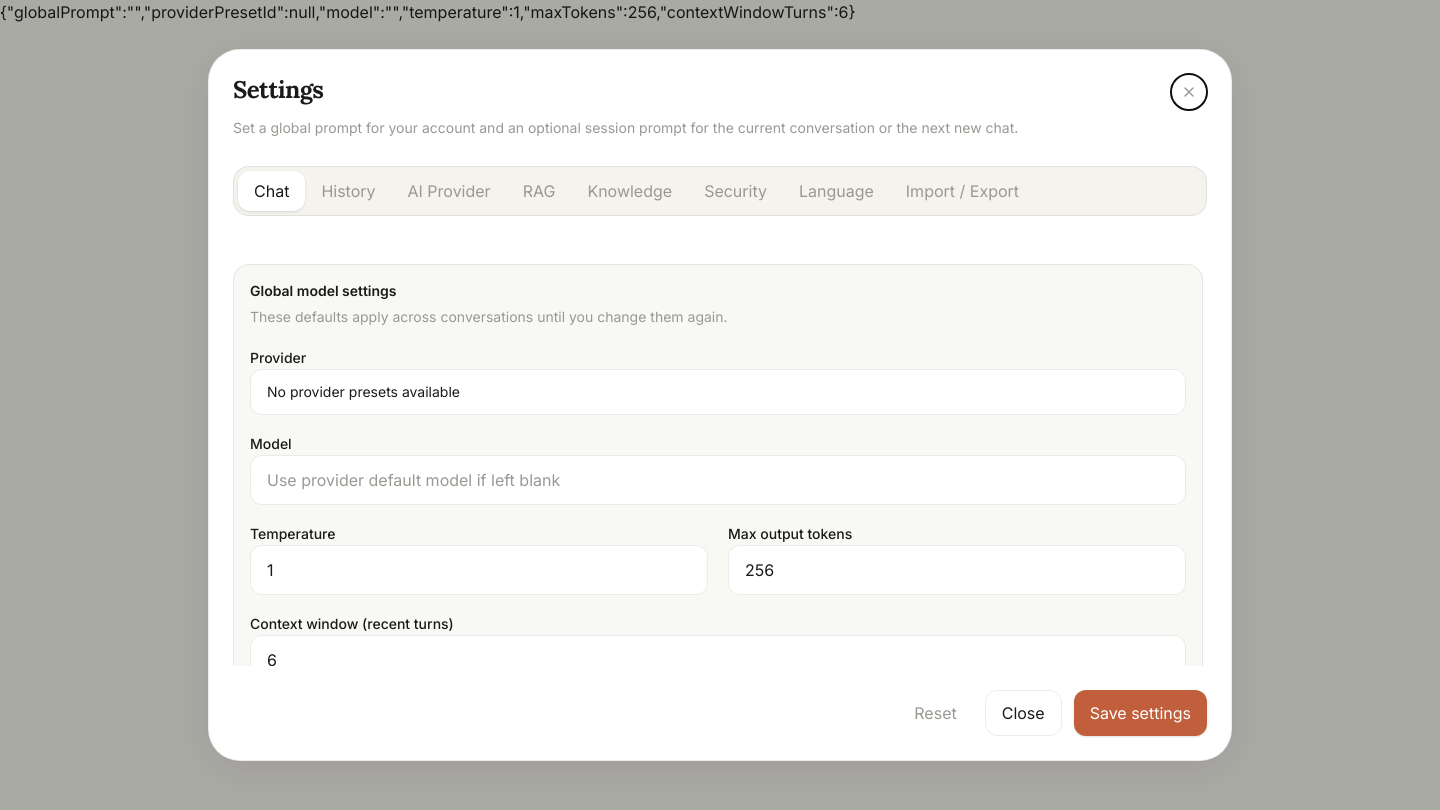
Test: SettingsPanel › keeps intermediate numeric chat inputs as raw text without writing invalid values upstream
The image size is (1440, 810).
Replace the text in the field labelled "Temperature" with "-" at (479, 570), box left=250, top=545, right=708, bottom=595
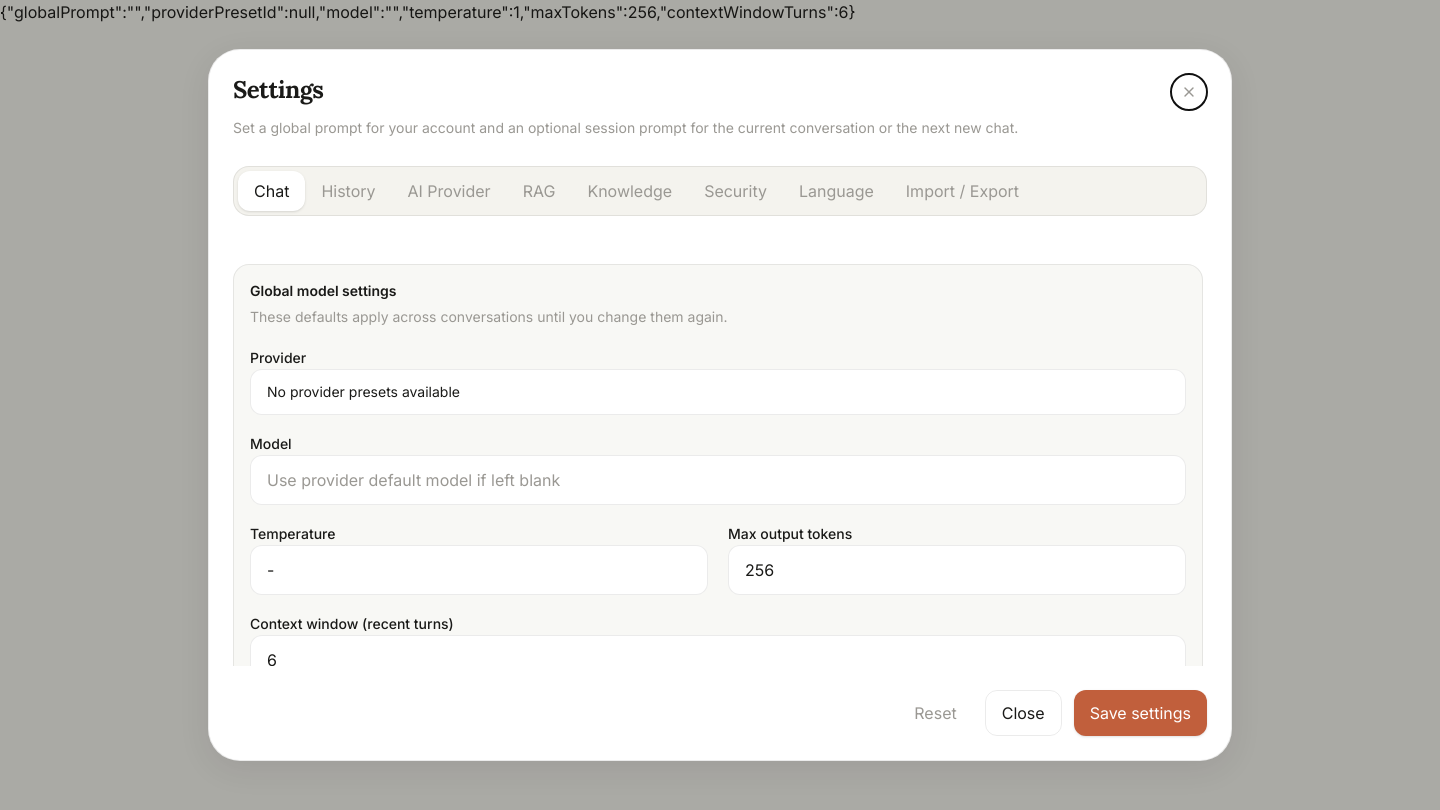
Expected: the text with test id "chat-settings-state" shows "\"temperature\":1", left=0, top=2, right=855, bottom=22
Replace the text in the field labelled "Max output tokens" with "1e" at (957, 570), box left=728, top=545, right=1186, bottom=595
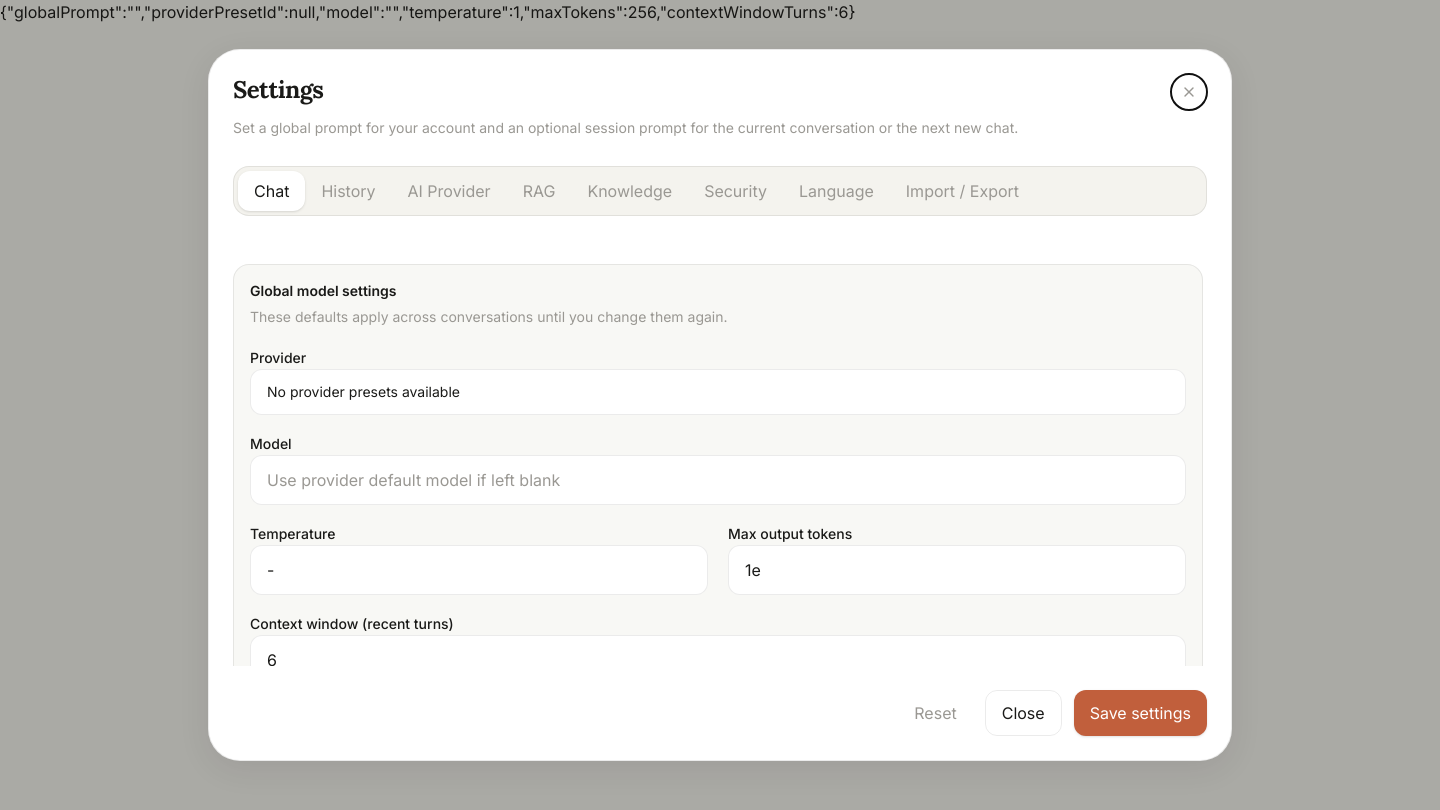
Expected: the text with test id "chat-settings-state" shows "\"maxTokens\":256", left=0, top=2, right=855, bottom=22
Clear the field labelled "Context window" at (718, 660), box left=250, top=635, right=1186, bottom=685
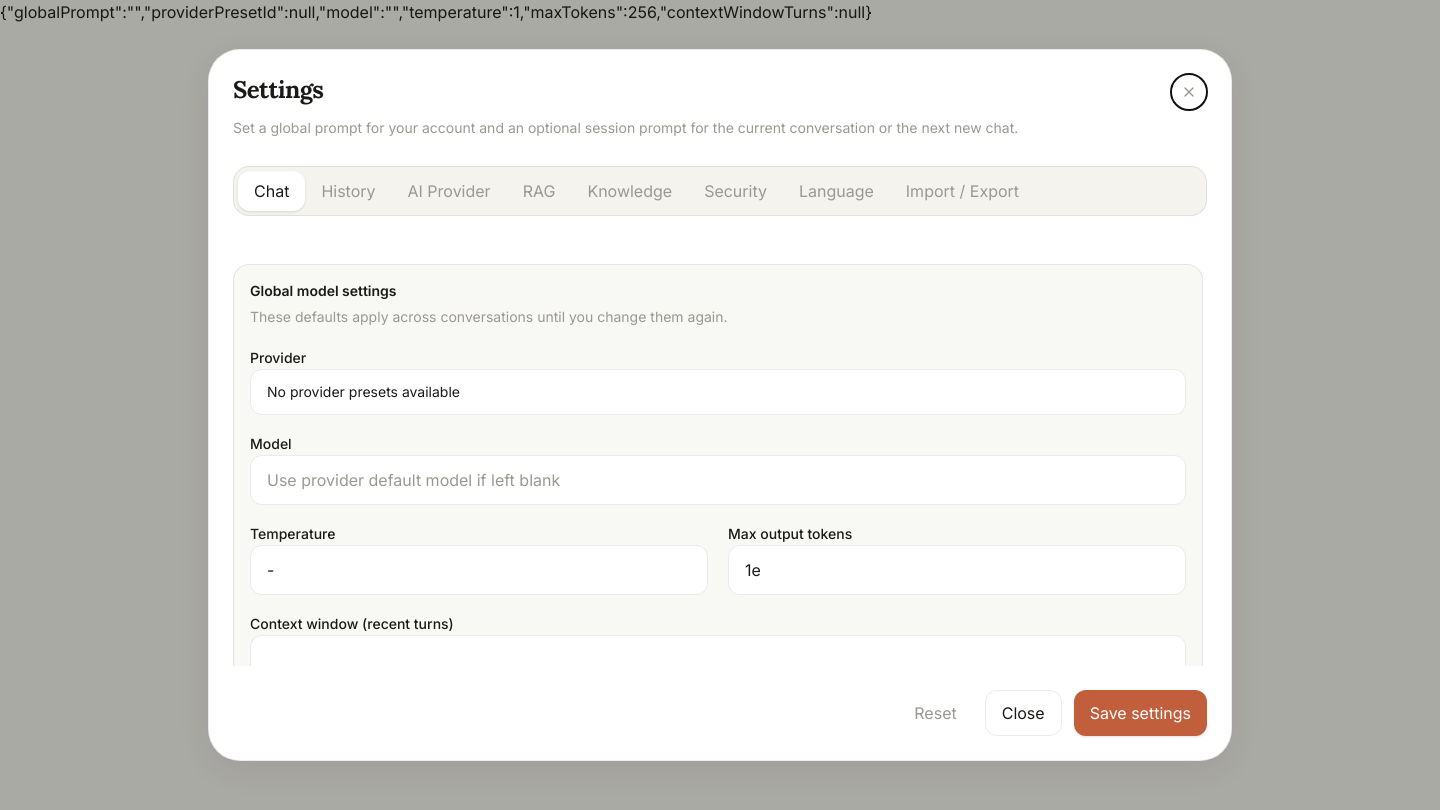
Expected: the text with test id "chat-settings-state" shows "\"contextWindowTurns\":null", left=0, top=2, right=872, bottom=22
